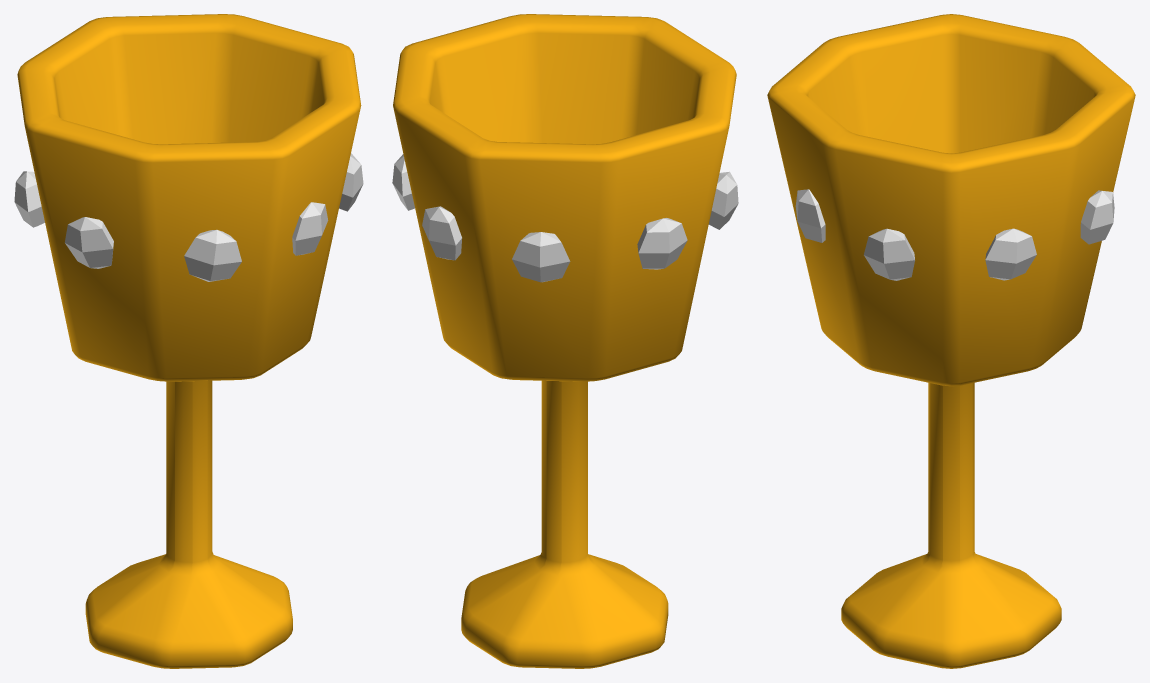
File: goblet.fbx
3 views of the same model, side by side, from view 1: azimuth 30°, elevation 25°; view 2: azimuth 150°, elevation 25°; view 3: azimuth 270°, elevation 25° (orthographic).
Visible parts, largest first — view 1: Cube, Sphere.006, Sphere.007, Sphere.003, Sphere.002, Sphere.004; view 2: Cube, Sphere.001, Sphere.002, Sphere, Sphere.007, Sphere.005; view 3: Cube, Sphere.004, Sphere.005, Sphere, Sphere.003.
Part boxes in pixels (x1=…): Cube: x1=17, y1=14, x2=361, y2=668; Sphere.006: x1=184, y1=229, x2=241, y2=281; Sphere.007: x1=64, y1=217, x2=113, y2=268; Sphere.003: x1=292, y1=202, x2=328, y2=255; Sphere.002: x1=14, y1=171, x2=44, y2=227; Sphere.004: x1=339, y1=153, x2=363, y2=211; Cube: x1=393, y1=14, x2=736, y2=668; Sphere.001: x1=512, y1=232, x2=570, y2=282; Sphere.002: x1=637, y1=218, x2=687, y2=269; Sphere: x1=422, y1=206, x2=462, y2=260; Sphere.007: x1=708, y1=171, x2=738, y2=229; Sphere.005: x1=392, y1=154, x2=414, y2=210; Cube: x1=767, y1=14, x2=1135, y2=668; Sphere.004: x1=864, y1=228, x2=914, y2=280; Sphere.005: x1=985, y1=228, x2=1036, y2=280; Sphere: x1=1080, y1=190, x2=1114, y2=244; Sphere.003: x1=795, y1=189, x2=825, y2=242.
Bounding box in the file's own units: 3345 × 5374 × 3345.
